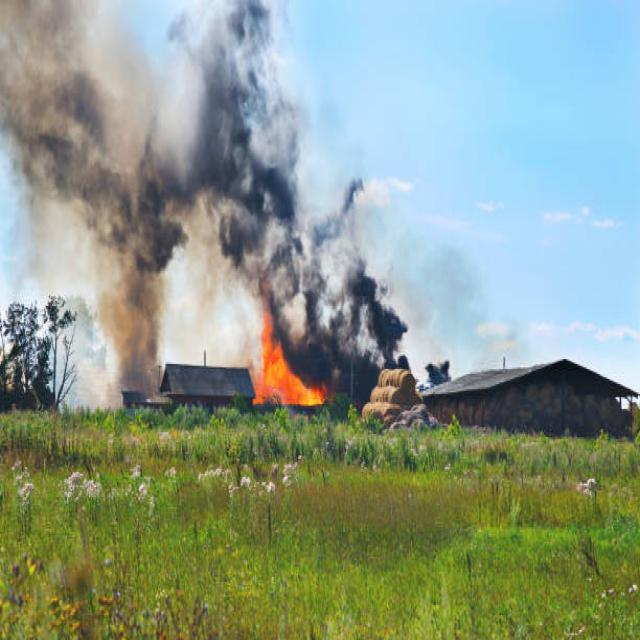Fire: (253, 305, 325, 409)
Smoke: (0, 0, 405, 405)
